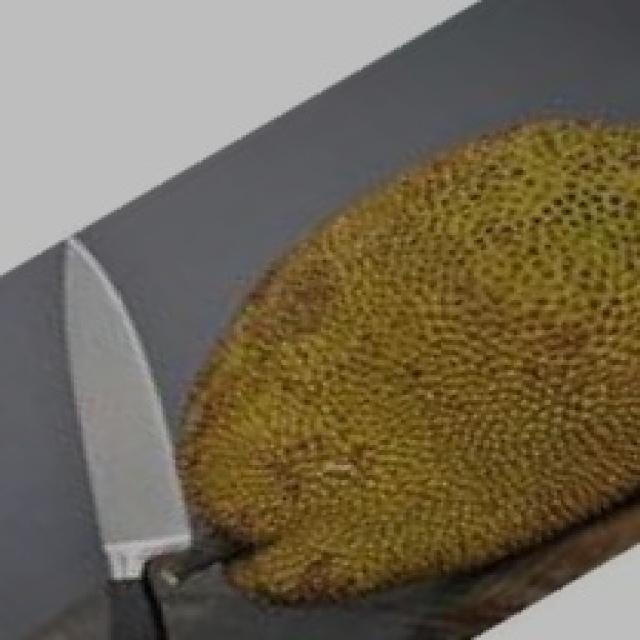Fruit: (221, 67, 640, 487)
